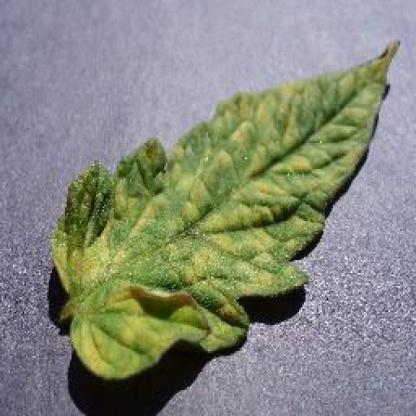Tomato_Leaf_Mold: (54, 38, 402, 377)
